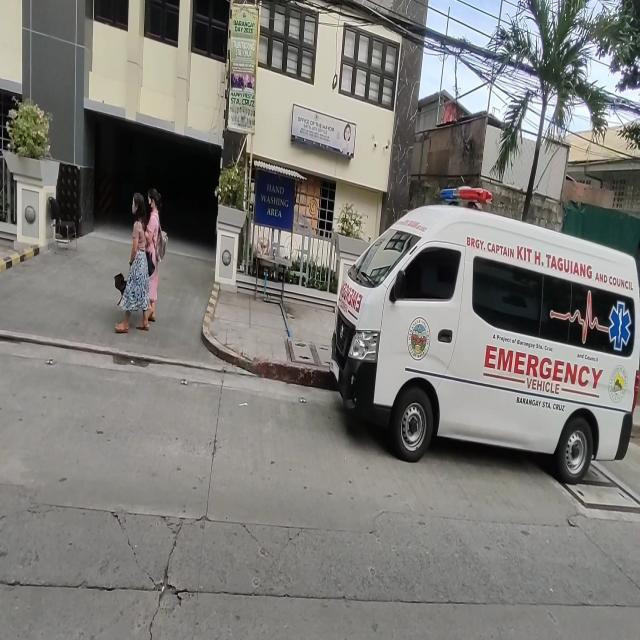emergency-vehicle: (320, 182, 640, 486), (480, 340, 606, 408), (336, 276, 364, 316)
